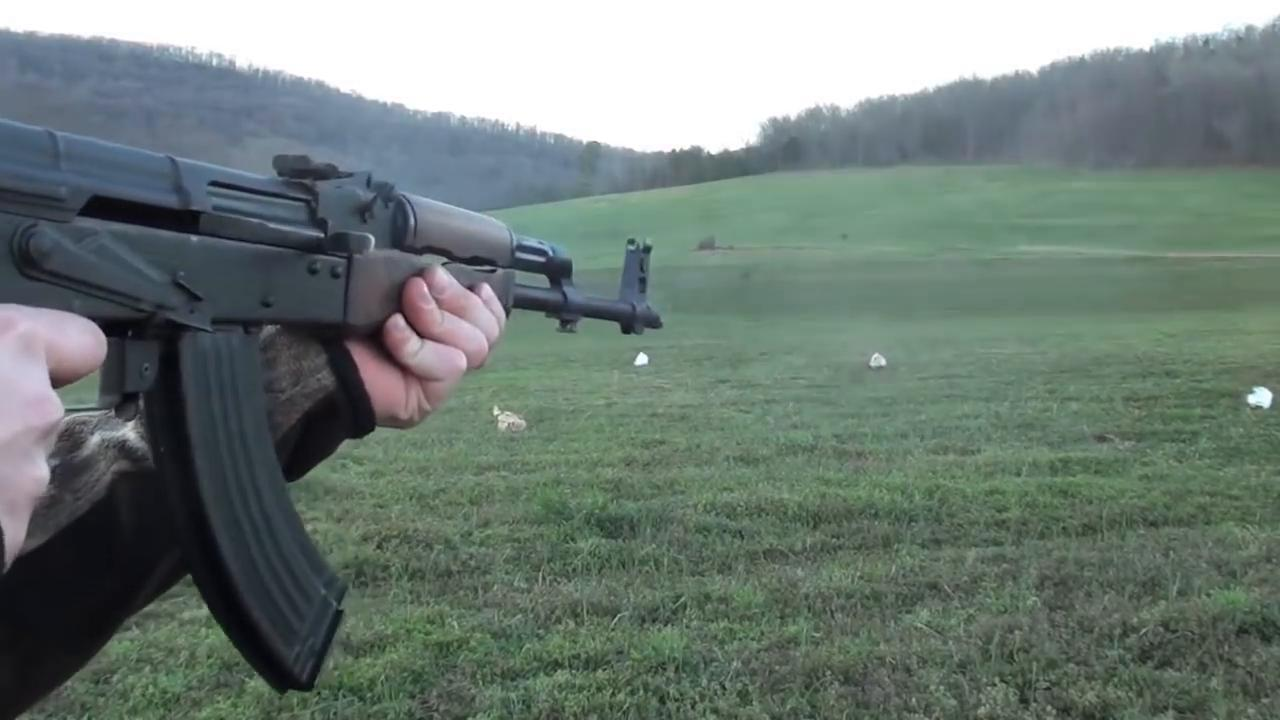AK47 Rifle: (3, 125, 667, 697)
